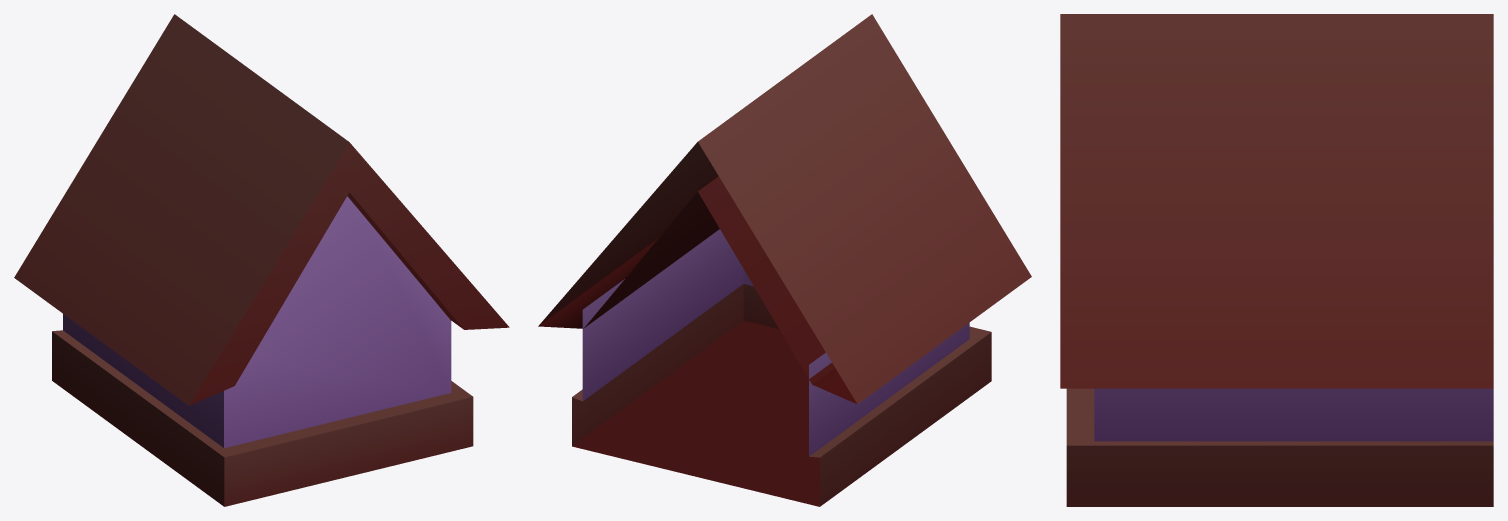
File: Attic_01C.fbx
3 views of the same model, side by side, from view 1: azimuth 30°, elevation 25°; view 2: azimuth 150°, elevation 25°; view 3: azimuth 270°, elevation 25° (orthographic). The views are drawn at different scales.
Visible parts, largest first — view 1: Attic_01C; view 2: Attic_01C; view 3: Attic_01C.
Boxes of the visible parts, <box> form: Attic_01C: <box>14,14,509,506</box>; Attic_01C: <box>538,14,1031,506</box>; Attic_01C: <box>1060,14,1493,506</box>.
Bounding box in the file's own units: 213 × 214 × 201.
2 materials, 2 textured.
